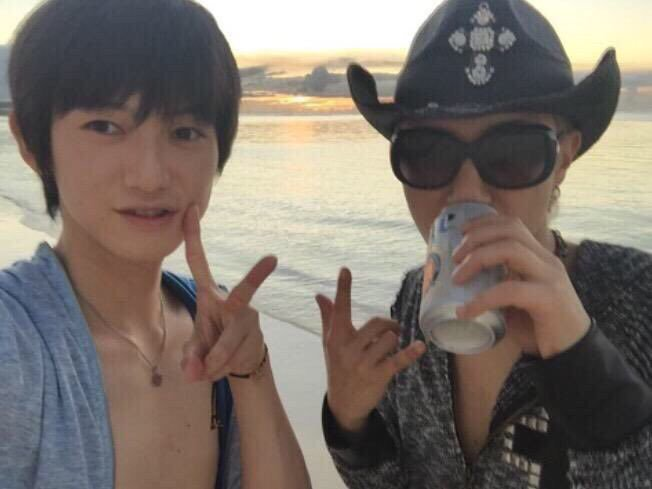face: (50, 85, 221, 263), (400, 110, 582, 242)
hand: (179, 203, 278, 388), (451, 210, 590, 340), (312, 266, 429, 419)
